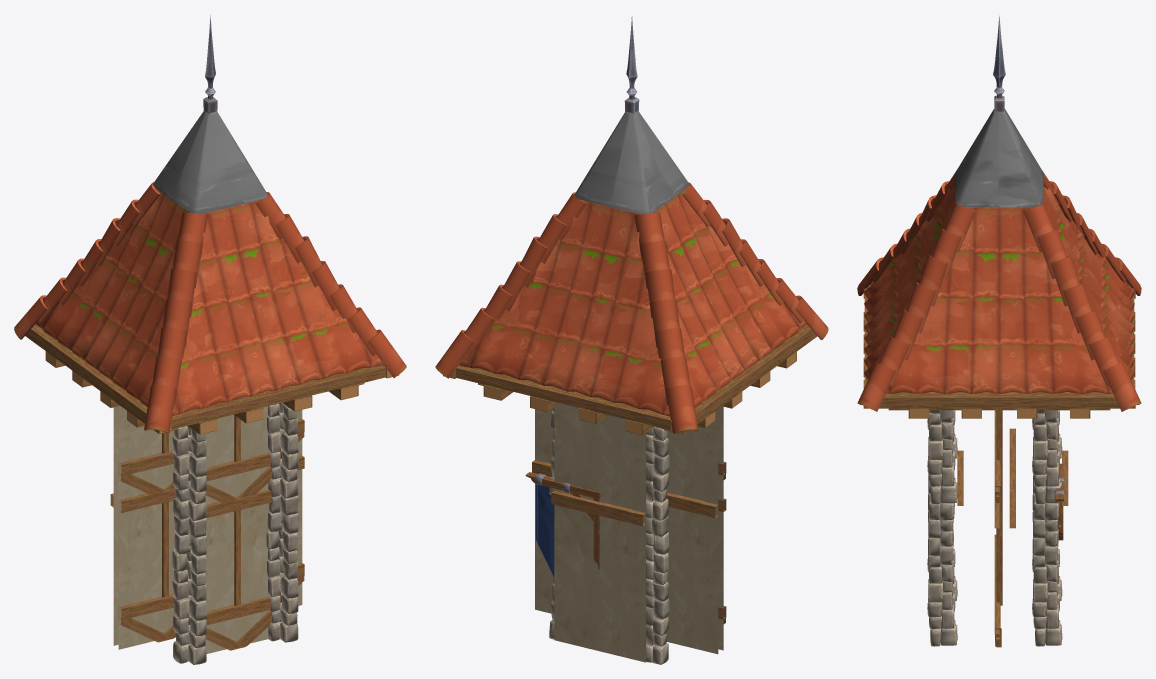
The model's file is bg_medieval_tower.glb.
3 renders of one model, left to right at view 1: azimuth 30°, elevation 25°; view 2: azimuth 150°, elevation 25°; view 3: azimuth 270°, elevation 25°, orthographic.
Parts seen in each view (by area): view 1: Roof_Tower_RoundTiles, Wall_Plaster_Straight.001, Wall_Plaster_Straight.002, Wall_Plaster_Straight.005, Corner_Exterior_Brick.002, Corner_Exterior_Brick.003, Wall_Plaster_Straight.006, Corner_Exterior_Brick.006, Corner_Exterior_Brick.007, Wall_Plaster_Straight.003; view 2: Roof_Tower_RoundTiles, Wall_Plaster_Straight, Wall_Plaster_Straight.002, Wall_Plaster_Straight.004, Wall_Plaster_Straight.006, Corner_Exterior_Brick, Banner_2, Corner_Exterior_Brick.004, Wall_Plaster_Straight.003, Wall_Plaster_Straight.007; view 3: Roof_Tower_RoundTiles, Corner_Exterior_Brick.003, Corner_Exterior_Brick.001, Corner_Exterior_Brick.007, Corner_Exterior_Brick.005, Wall_Plaster_Straight.003, Wall_Plaster_Straight.007, Wall_Plaster_Straight.002, Banner_2.
Boxes of the visible parts, box(x1,y1,x2,y2) form: Roof_Tower_RoundTiles: box(14, 15, 406, 434); Wall_Plaster_Straight.001: box(205, 489, 281, 653); Wall_Plaster_Straight.002: box(110, 488, 175, 649); Wall_Plaster_Straight.005: box(205, 406, 281, 504); Corner_Exterior_Brick.002: box(172, 515, 206, 664); Corner_Exterior_Brick.003: box(266, 495, 298, 642); Wall_Plaster_Straight.006: box(113, 406, 174, 505); Corner_Exterior_Brick.006: box(172, 426, 206, 520); Corner_Exterior_Brick.007: box(267, 402, 298, 498); Wall_Plaster_Straight.003: box(297, 455, 304, 605); Roof_Tower_RoundTiles: box(435, 16, 828, 435); Wall_Plaster_Straight: box(551, 490, 645, 662); Wall_Plaster_Straight.002: box(666, 492, 726, 654); Wall_Plaster_Straight.004: box(554, 403, 645, 518); Wall_Plaster_Straight.006: box(667, 406, 726, 509); Corner_Exterior_Brick: box(646, 516, 669, 664); Banner_2: box(525, 472, 600, 576); Corner_Exterior_Brick.004: box(646, 426, 669, 520); Wall_Plaster_Straight.003: box(532, 460, 552, 613); Wall_Plaster_Straight.007: box(535, 409, 552, 463); Roof_Tower_RoundTiles: box(857, 15, 1141, 418); Corner_Exterior_Brick.003: box(927, 498, 957, 646); Corner_Exterior_Brick.001: box(1032, 498, 1062, 646); Corner_Exterior_Brick.007: box(927, 410, 957, 504); Corner_Exterior_Brick.005: box(1032, 410, 1061, 504); Wall_Plaster_Straight.003: box(994, 473, 1015, 647); Wall_Plaster_Straight.007: box(994, 410, 1002, 504); Wall_Plaster_Straight.002: box(994, 428, 1015, 578); Banner_2: box(1054, 463, 1064, 540).
Size of the model in its own units: 5.65 by 12.8 by 5.43.
Materials: 31 (31 with a texture image).
